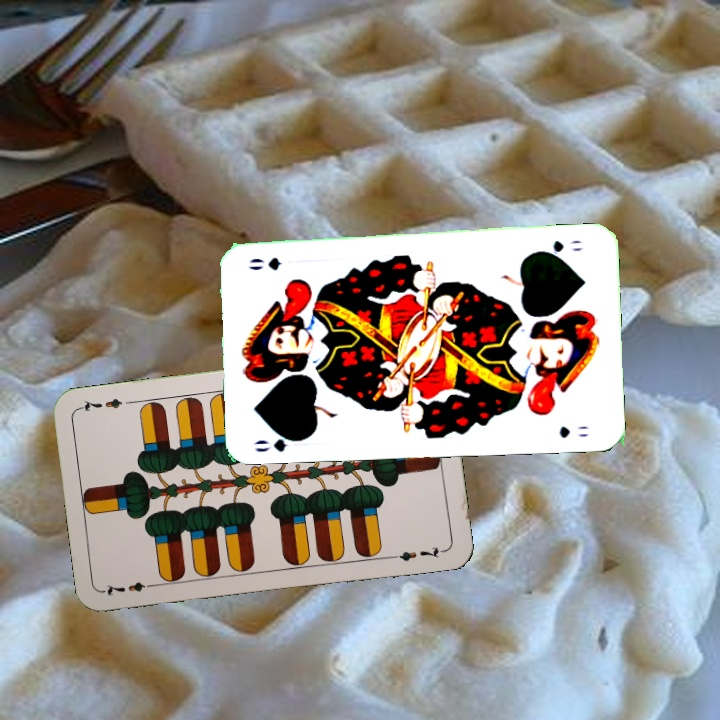E7: (100, 578, 159, 599)
GO: (250, 428, 309, 455), (533, 236, 585, 259)
